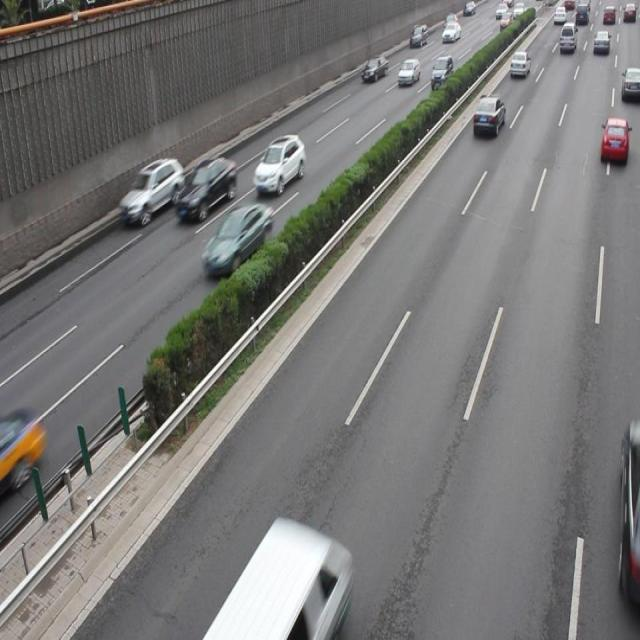car: (202, 203, 274, 278), (120, 155, 185, 225), (173, 154, 236, 225), (618, 423, 640, 614), (253, 133, 306, 195), (470, 95, 505, 140), (598, 115, 628, 166)
truck: (204, 518, 353, 640)
